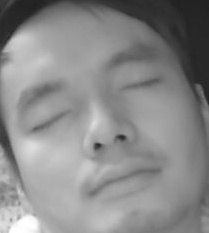blink: (31, 108, 70, 132), (119, 77, 157, 98)
mouth: (84, 155, 158, 195)
